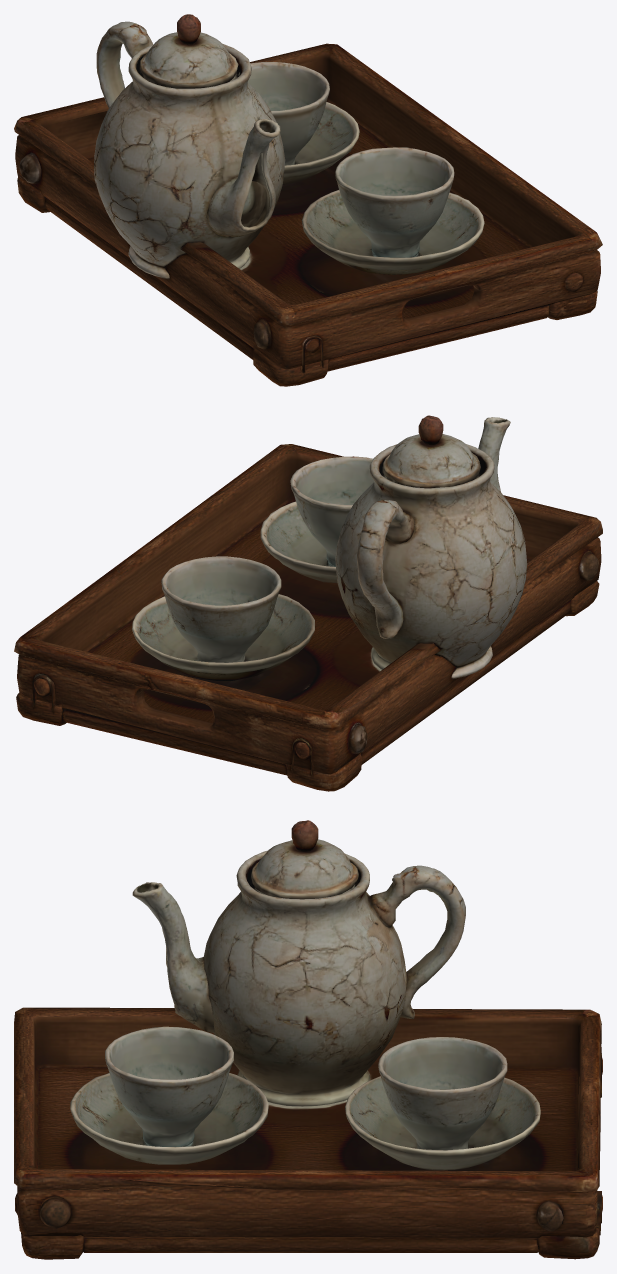
3 renders of one model, top to bottom at view 1: azimuth 30°, elevation 25°; view 2: azimuth 150°, elevation 25°; view 3: azimuth 270°, elevation 25°, orthographic. The views are drawn at different scales.
Parts seen in each view (by area): view 1: tripo_node_45c1cf64-7a41-4d91-b1a1-f17bc7882008; view 2: tripo_node_45c1cf64-7a41-4d91-b1a1-f17bc7882008; view 3: tripo_node_45c1cf64-7a41-4d91-b1a1-f17bc7882008.
Boxes of the visible parts, <box> form: tripo_node_45c1cf64-7a41-4d91-b1a1-f17bc7882008: <box>14,14,602,386</box>; tripo_node_45c1cf64-7a41-4d91-b1a1-f17bc7882008: <box>14,415,602,791</box>; tripo_node_45c1cf64-7a41-4d91-b1a1-f17bc7882008: <box>14,820,602,1259</box>.
Bounding box in the file's own units: 0.791 × 0.5449 × 0.998.
Materials: 1 (1 with a texture image).
